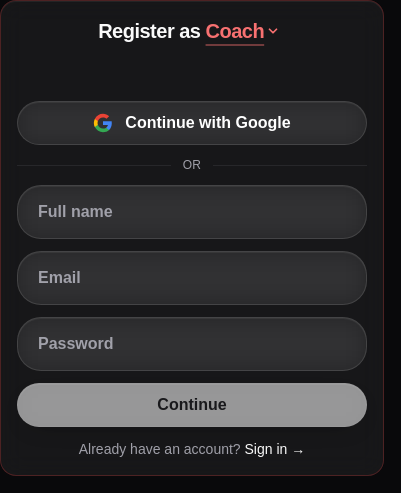
Scenario: AuthPanel › switches to sign in without role switcher
Click the button "Sign in →": (275, 449) [244,439,305,459]
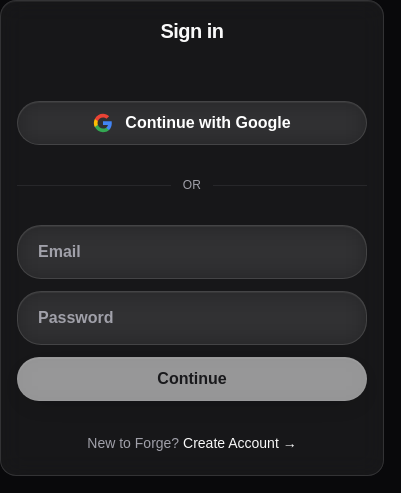
Check: the heading "Sign in" is shown, box [160,20,224,42]
